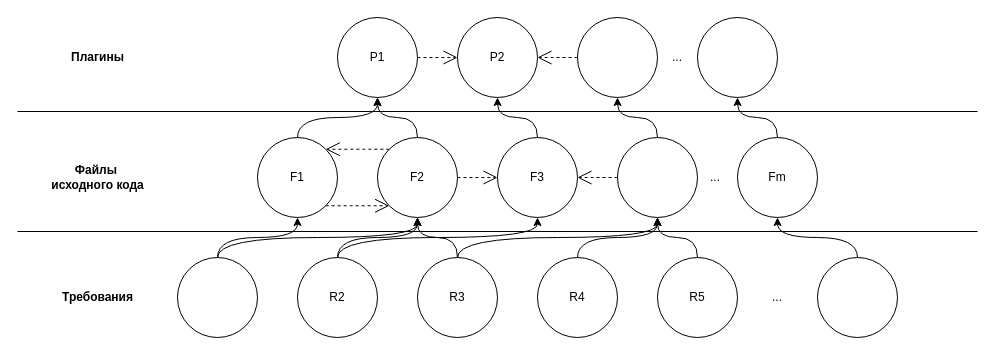
This 995x355 diagram has some shape labels left out. Here are the shapes that lost their labels. From the top down, the centre of each, then its label:
the point at 617,57: P3
the point at 737,57: Pn
the point at 657,177: F4
the point at 217,297: R1
the point at 857,297: Rl
